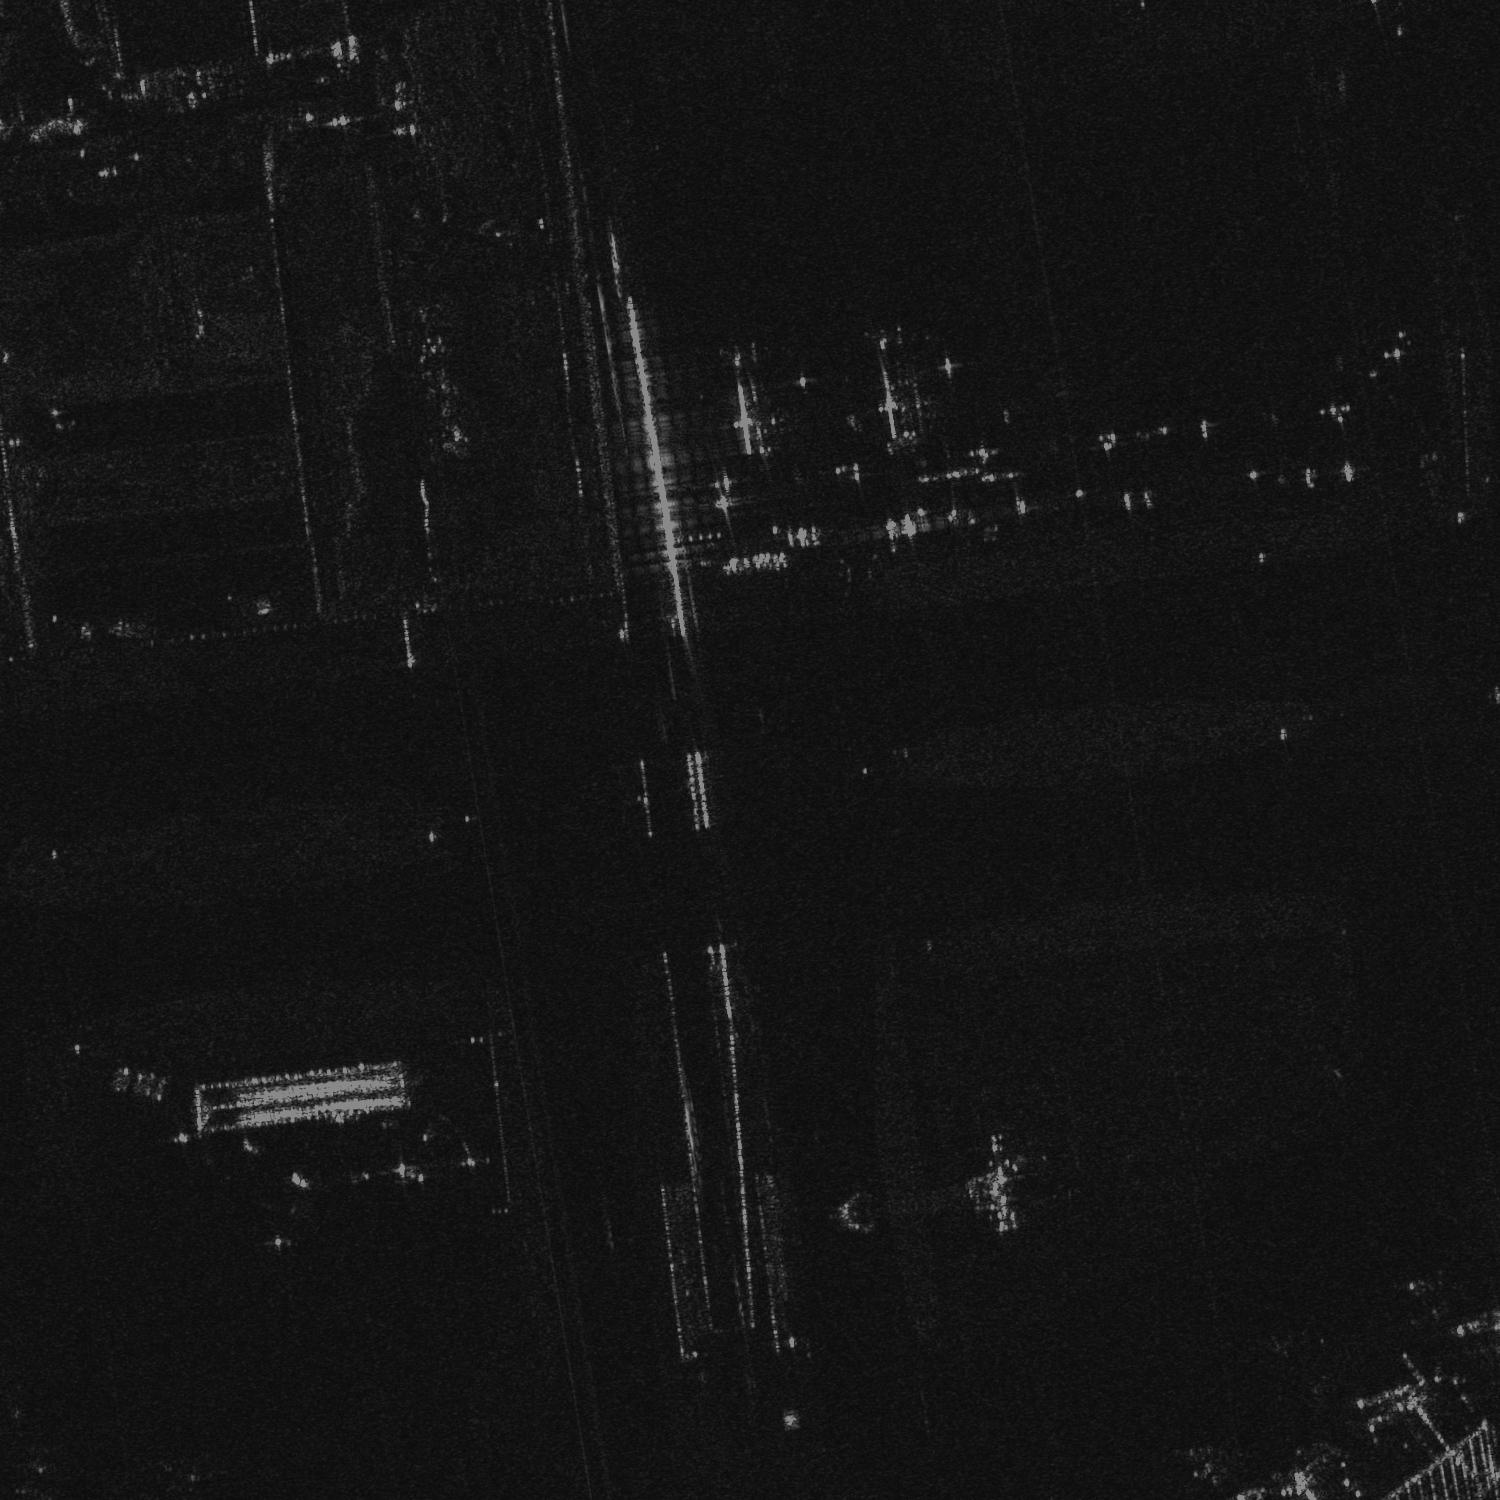A220: (1408, 1277, 1462, 1321)
